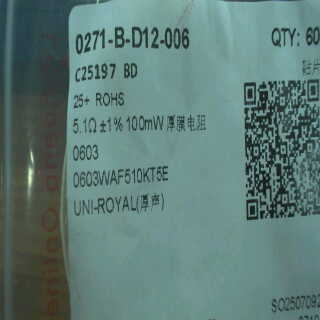5.1R: (70, 113, 98, 141)
